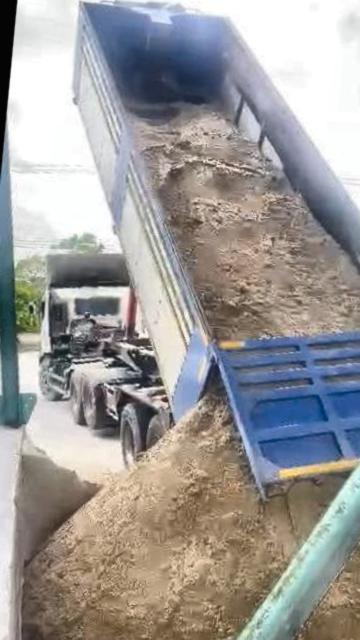sand: (24, 398, 341, 640), (134, 106, 360, 339), (258, 487, 360, 640), (16, 439, 98, 561)
